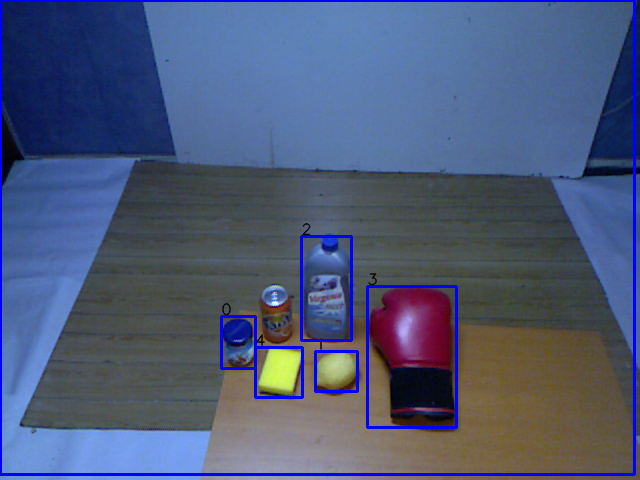cera: (293, 234, 357, 344)
crema: (217, 318, 259, 369)
esponja: (254, 342, 305, 402)
guante: (361, 281, 465, 430)
lata: (257, 278, 298, 347)
limon: (308, 345, 365, 405)
